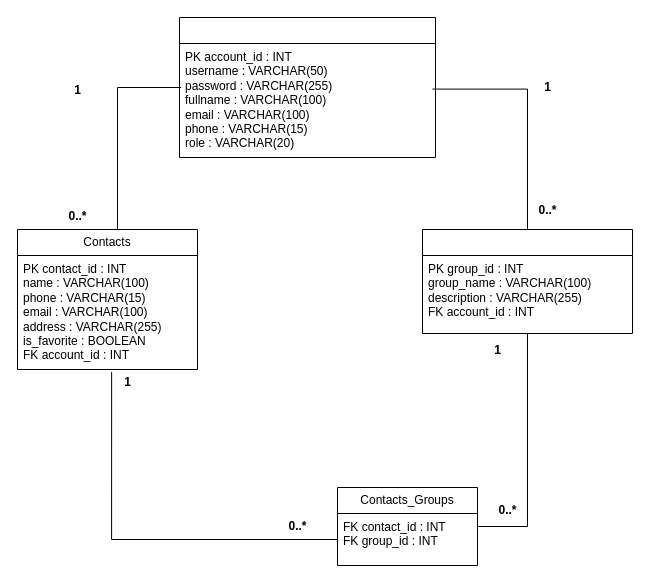
Image size: 650x586. Some labels were removed from this diagram. The box of each missing label's shape, as (x1, y1, x2, y2) in pixels:
Accounts: (178, 16, 436, 158)
Groups: (422, 228, 632, 334)
